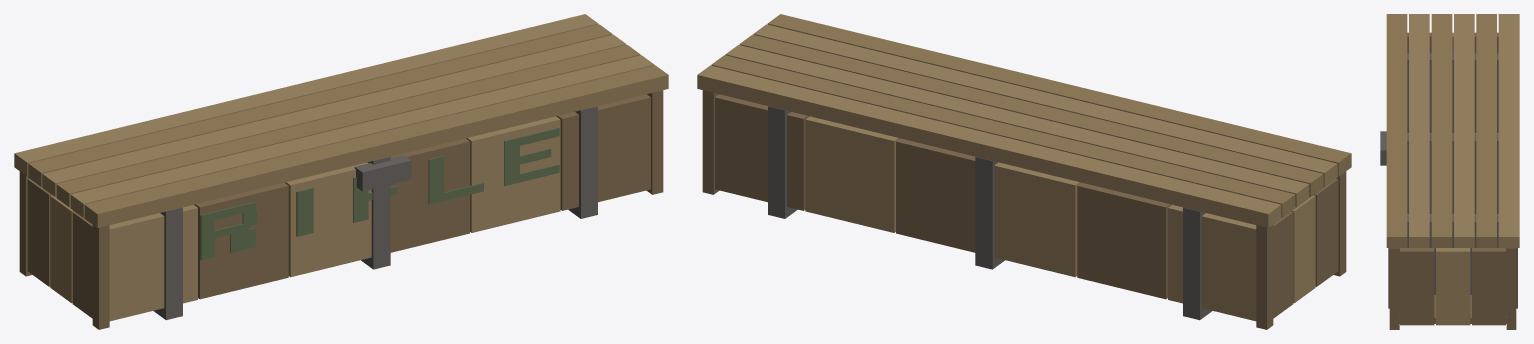
The model's file is gun_case.glb.
The picture shows the model from 3 angles, left to right: view 1: azimuth 30°, elevation 25°; view 2: azimuth 150°, elevation 25°; view 3: azimuth 270°, elevation 25°; orthographic projection. The views are drawn at different scales.
Visible parts, largest first — view 1: CaseLid_0, CaseLid_1, CaseLid_2, CaseLid_3, CaseLid_4, CaseLid_5, CaseSlat_f_4, CaseSlat_f_1, CaseSlat_f_5, CaseSlat_f_0, CaseSlat_f_2, CaseSlat_f_3 (+16 smaller); view 2: CaseLid_5, CaseSlat_b_4, CaseSlat_b_1, CaseLid_4, CaseLid_3, CaseLid_0, CaseLid_1, CaseLid_2, CaseSlat_b_2, CaseSlat_b_3, CaseSlat_b_5, CaseSlat_b_0 (+9 smaller); view 3: CaseLid_0, CaseLid_2, CaseLid_5, CaseLid_1, CaseLid_3, CaseLid_4, CaseSide_r_0, CaseSide_r_1, CaseSide_r_2, CaseStrap_0, CaseStrap_1, CasePost_ne (+4 smaller).
Boxes of the visible parts, <box> form: CaseLid_0: <box>84,65,668,227</box>; CaseLid_1: <box>70,55,654,217</box>; CaseLid_2: <box>56,45,640,207</box>; CaseLid_3: <box>42,34,626,197</box>; CaseLid_4: <box>28,24,612,186</box>; CaseLid_5: <box>14,14,598,176</box>; CaseSlat_f_4: <box>466,116,560,232</box>; CaseSlat_f_1: <box>194,182,288,299</box>; CaseSlat_f_5: <box>556,94,650,210</box>; CaseSlat_f_0: <box>109,204,197,321</box>; CaseSlat_f_2: <box>285,162,371,277</box>; CaseSlat_f_3: <box>390,138,469,252</box>; CaseLid_5: <box>697,65,1281,227</box>; CaseSlat_b_4: <box>805,116,899,232</box>; CaseSlat_b_1: <box>1077,182,1171,299</box>; CaseLid_4: <box>711,55,1295,217</box>; CaseLid_3: <box>725,45,1309,207</box>; CaseLid_0: <box>767,14,1351,176</box>; CaseLid_1: <box>753,24,1337,186</box>; CaseLid_2: <box>739,34,1323,197</box>; CaseSlat_b_2: <box>994,162,1080,277</box>; CaseSlat_b_3: <box>896,138,975,252</box>; CaseSlat_b_5: <box>715,94,809,210</box>; CaseSlat_b_0: <box>1168,204,1256,321</box>; CaseLid_0: <box>1386,14,1407,247</box>; CaseLid_2: <box>1431,14,1452,247</box>; CaseLid_5: <box>1498,14,1519,247</box>; CaseLid_1: <box>1409,14,1429,247</box>; CaseLid_3: <box>1454,14,1474,247</box>; CaseLid_4: <box>1476,14,1496,247</box>; CaseSide_r_0: <box>1400,248,1434,325</box>; CaseSide_r_1: <box>1436,248,1470,325</box>; CaseSide_r_2: <box>1472,248,1505,325</box>; CaseStrap_0: <box>1407,53,1498,132</box>; CaseStrap_1: <box>1407,134,1498,213</box>; CasePost_ne: <box>1506,248,1516,329</box>.
Size of the model in its own units: 0.936 by 0.194 by 0.247.
